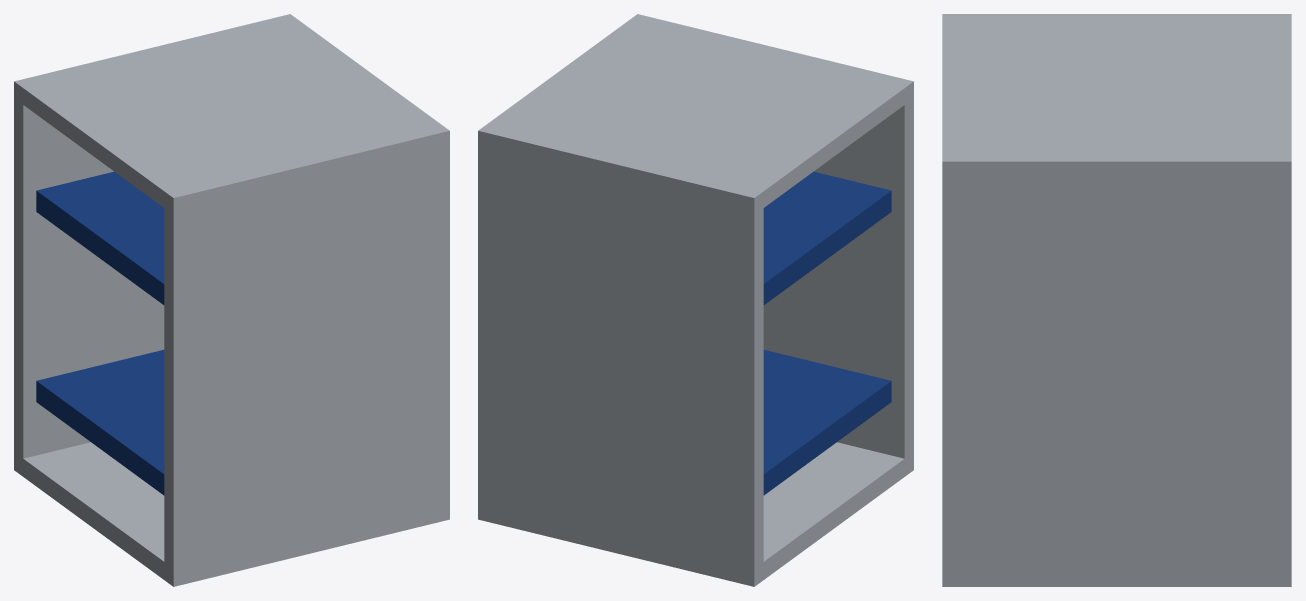
File: L128_REAR_LAN_USB.fbx
3 views of the same model, side by side, from view 1: azimuth 30°, elevation 25°; view 2: azimuth 150°, elevation 25°; view 3: azimuth 270°, elevation 25° (orthographic). The views are drawn at different scales.
Visible parts, largest first — view 1: REAR_LAN_USB__Steel, REAR_LAN_USB__Blue; view 2: REAR_LAN_USB__Steel, REAR_LAN_USB__Blue; view 3: REAR_LAN_USB__Steel.
Part boxes in pixels (box(x1,y1,x2,y2)): REAR_LAN_USB__Steel: box(14, 14, 449, 586); REAR_LAN_USB__Blue: box(36, 171, 164, 495); REAR_LAN_USB__Steel: box(478, 14, 913, 586); REAR_LAN_USB__Blue: box(763, 171, 891, 495); REAR_LAN_USB__Steel: box(942, 14, 1291, 586).
Bounding box in the file's own units: 19 × 25.55 × 19.
